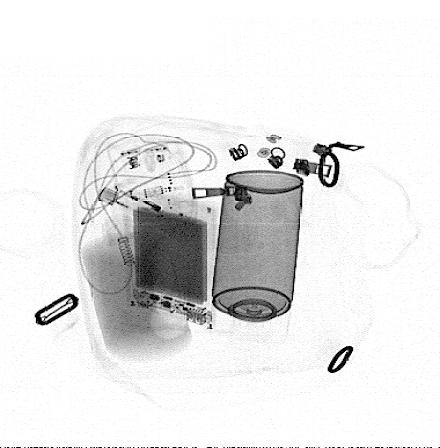Lighter: (96, 181, 184, 235)
Powerbank: (125, 187, 218, 331)
Sprayer: (210, 170, 305, 347)
